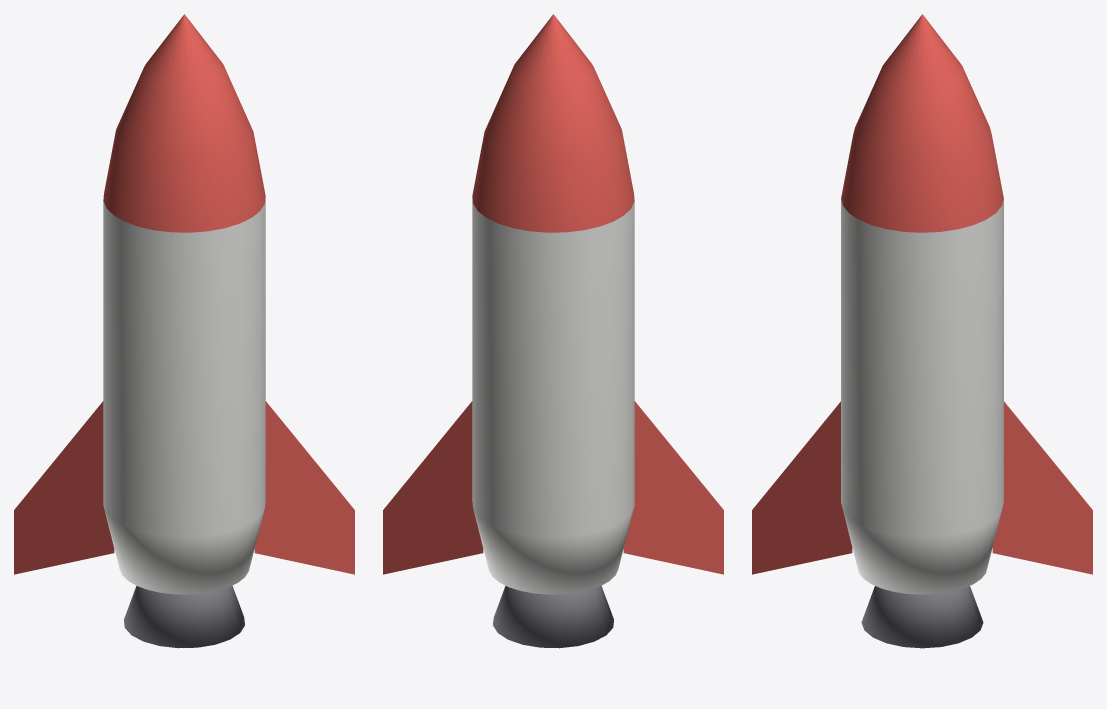
The model's file is rocket.glb.
3 views of the same model, side by side, from view 1: azimuth 30°, elevation 25°; view 2: azimuth 150°, elevation 25°; view 3: azimuth 270°, elevation 25° (orthographic).
Parts seen in each view (by area): view 1: rocket; view 2: rocket; view 3: rocket.
Part boxes in pixels (x1,y1,x2,y2): rocket: (14, 14, 354, 648); rocket: (383, 14, 723, 648); rocket: (752, 14, 1092, 648).
Bounding box in the file's own units: 1.45 × 3.3 × 1.68.
